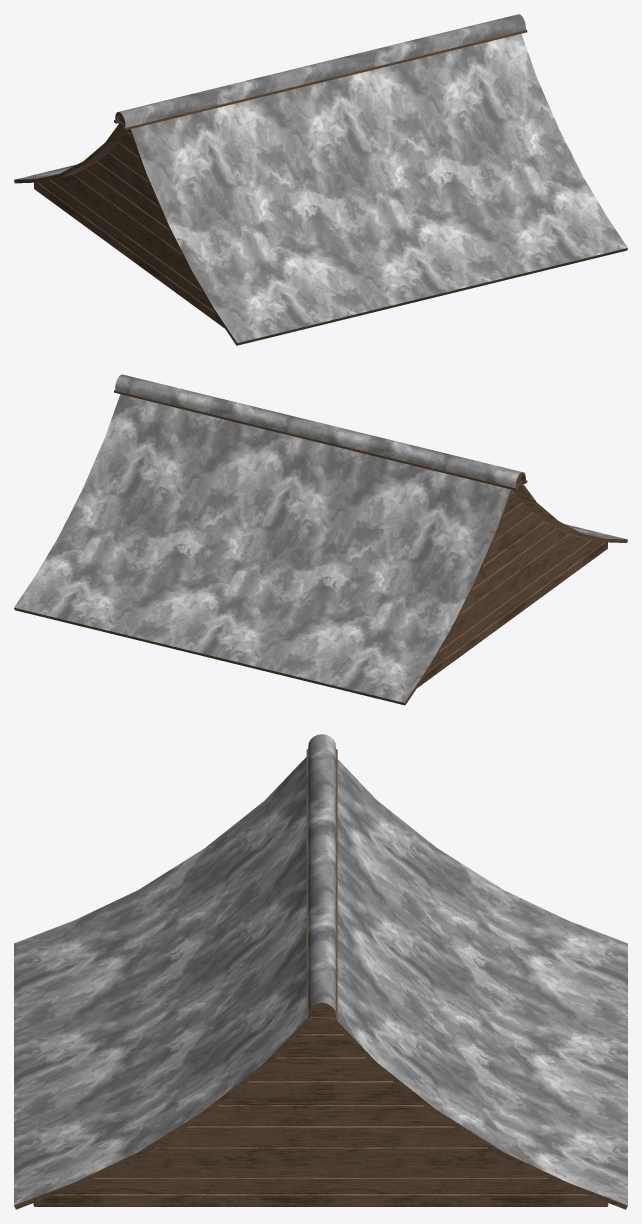
Rendered from SM_roof_06.fbx.
3 renders of one model, top to bottom at view 1: azimuth 30°, elevation 25°; view 2: azimuth 150°, elevation 25°; view 3: azimuth 270°, elevation 25°, orthographic. The views are drawn at different scales.
Visible parts, largest first — view 1: SM_roof_06; view 2: SM_roof_06; view 3: SM_roof_06.
Part boxes in pixels (x1,y1,x2,y2): SM_roof_06: (14, 14, 627, 345); SM_roof_06: (14, 374, 627, 705); SM_roof_06: (14, 734, 627, 1209).
Bounding box in the file's own units: 1111 × 1068 × 415.
Materials: 2 (2 with a texture image).
